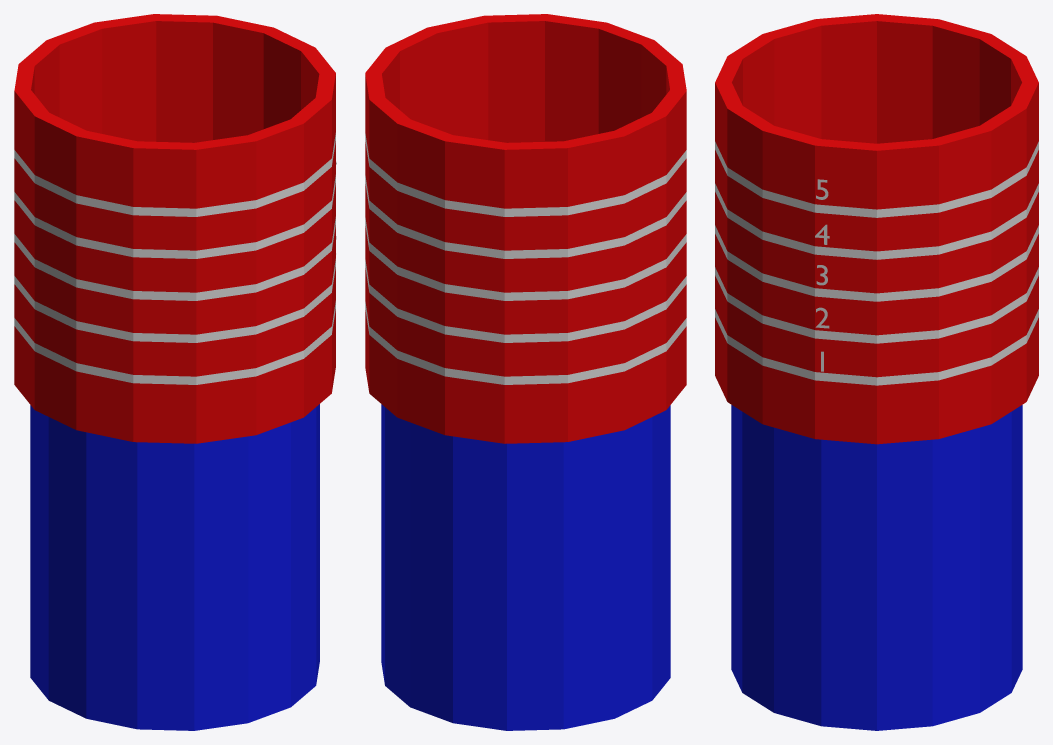
Rendered from cewka_j.fbx.
3 views of the same model, side by side, from view 1: azimuth 30°, elevation 25°; view 2: azimuth 150°, elevation 25°; view 3: azimuth 270°, elevation 25° (orthographic).
Visible parts, largest first — view 1: CEWKA, CIECZ; view 2: CEWKA, CIECZ; view 3: CEWKA, CIECZ.
Boxes of the visible parts, x1=… form: CEWKA: x1=14, y1=14, x2=335, y2=443; CIECZ: x1=30, y1=404, x2=319, y2=730; CEWKA: x1=365, y1=14, x2=686, y2=443; CIECZ: x1=381, y1=404, x2=670, y2=730; CEWKA: x1=715, y1=14, x2=1038, y2=444; CIECZ: x1=731, y1=405, x2=1022, y2=730.
Bounding box in the file's own units: 200 × 400 × 200.
